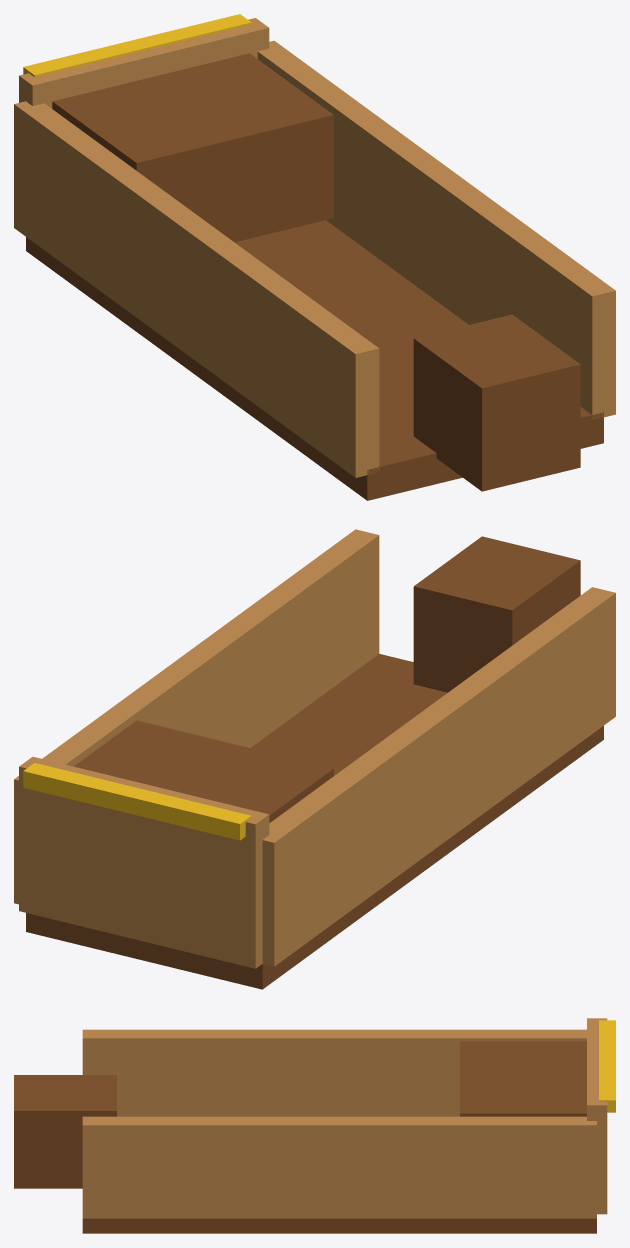
Rendered from ship_hull.glb.
3 renders of one model, top to bottom at view 1: azimuth 30°, elevation 25°; view 2: azimuth 150°, elevation 25°; view 3: azimuth 270°, elevation 25°, orthographic. The views are drawn at different scales.
Parts seen in each view (by area): view 1: ship_hull; view 2: ship_hull; view 3: ship_hull.
Part boxes in pixels (left/top/right/bottom): ship_hull: left=14, top=14, right=615, bottom=500; ship_hull: left=14, top=529, right=615, bottom=989; ship_hull: left=14, top=1018, right=615, bottom=1233.
Bounding box in the file's own units: 1.32 × 0.835 × 3.51.
